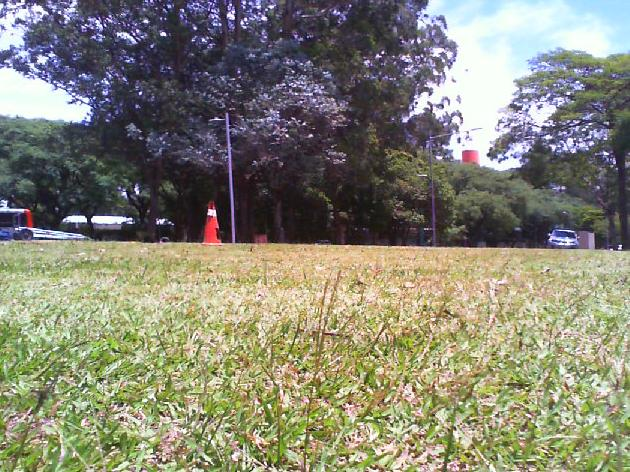0 cone: (198, 200, 223, 243)
